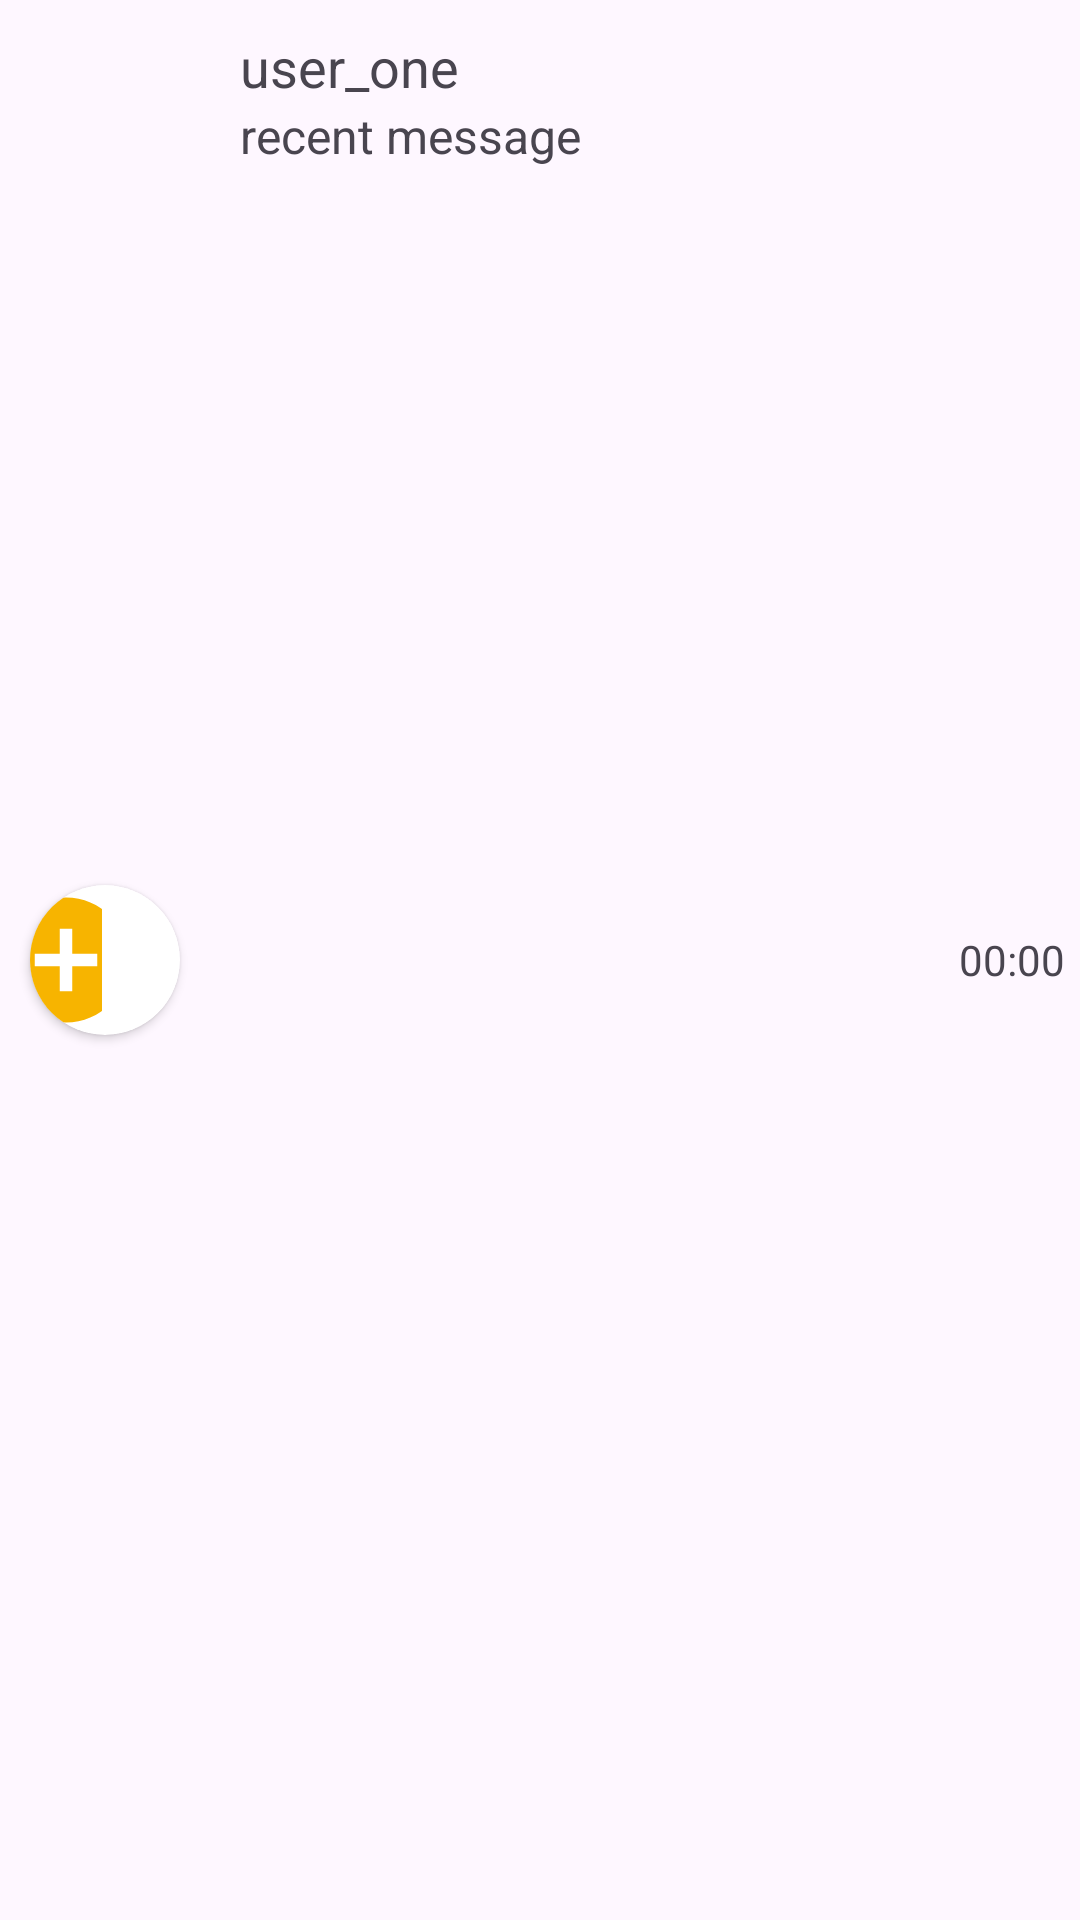

Point at icon controls on the screen. Image size 1080x1920, points as point (x, y).
add circle: point (66, 966)
